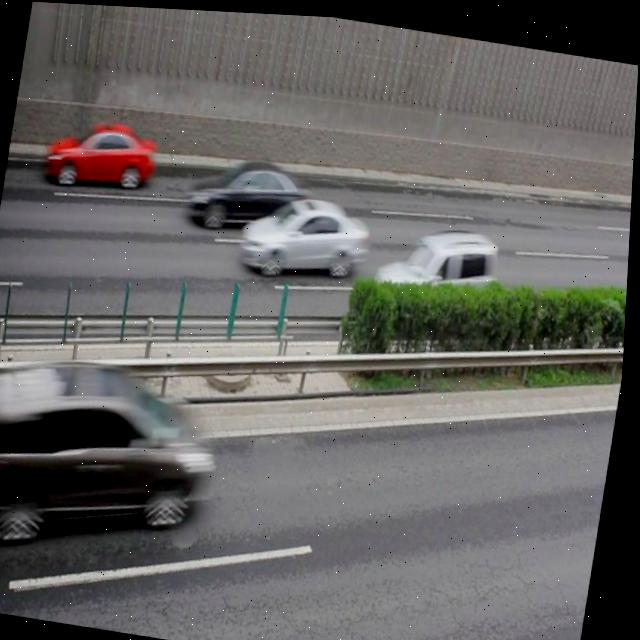car: (373, 211, 506, 323), (237, 180, 375, 286), (184, 145, 315, 245), (45, 110, 160, 199)
truck: (0, 346, 223, 562)
